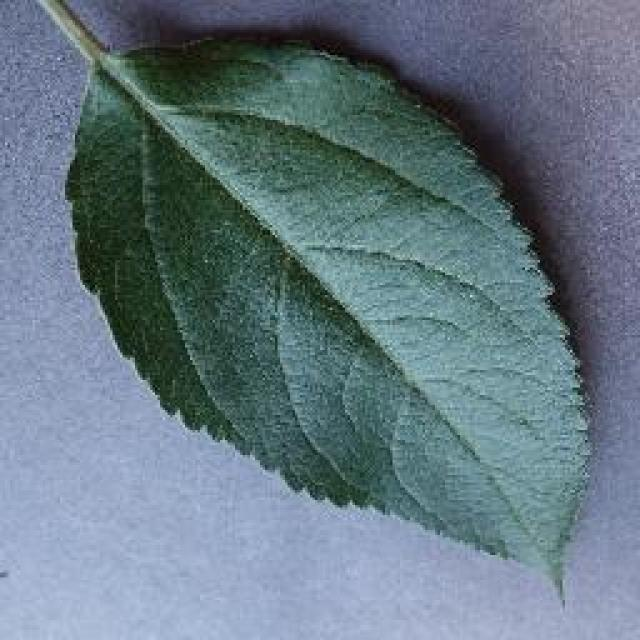apple healthy: (0, 0, 600, 605)
